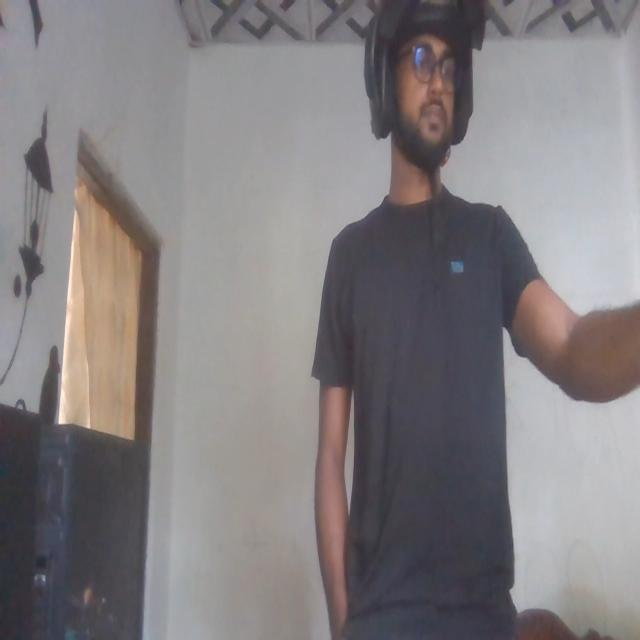Helmet_Wearer: (370, 0, 480, 176)
Person: (313, 0, 640, 640)
